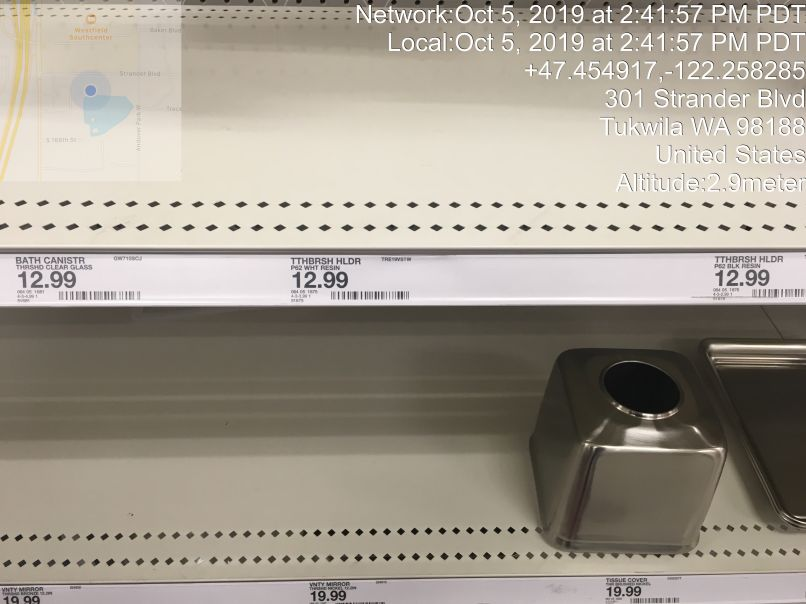Label: (9, 250, 153, 309), (283, 252, 423, 311), (686, 245, 806, 310)
Location: (598, 84, 806, 174)
Time: (350, 1, 806, 56)
Void: (7, 18, 783, 215)
